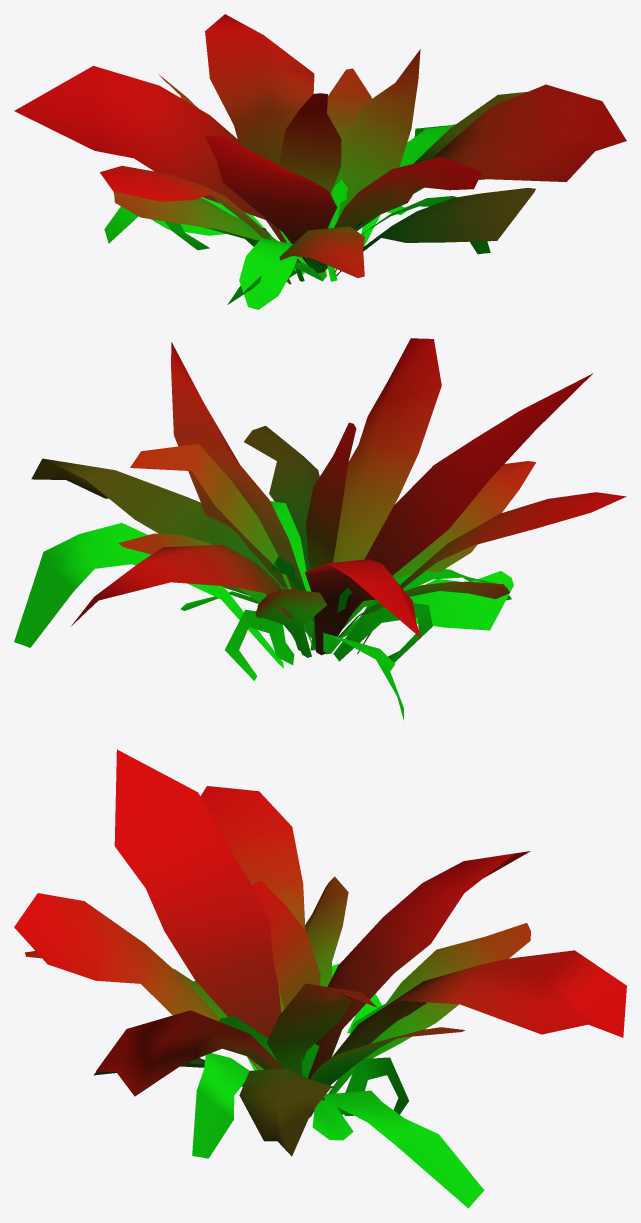
Rendered from Fern_LOD1_Var3_rmAsg.fbx.
The picture shows the model from 3 angles, top to bottom: view 1: azimuth 30°, elevation 25°; view 2: azimuth 150°, elevation 25°; view 3: azimuth 270°, elevation 25°; orthographic projection. The views are drawn at different scales.
Parts seen in each view (by area): view 1: _d175_Var3_LOD1; view 2: _d175_Var3_LOD1; view 3: _d175_Var3_LOD1.
Part boxes in pixels (x1,y1,x2,y2): _d175_Var3_LOD1: (14,14,626,309); _d175_Var3_LOD1: (14,338,626,720); _d175_Var3_LOD1: (14,749,626,1208).
Bounding box in the file's own units: 202 × 91.3 × 187.
